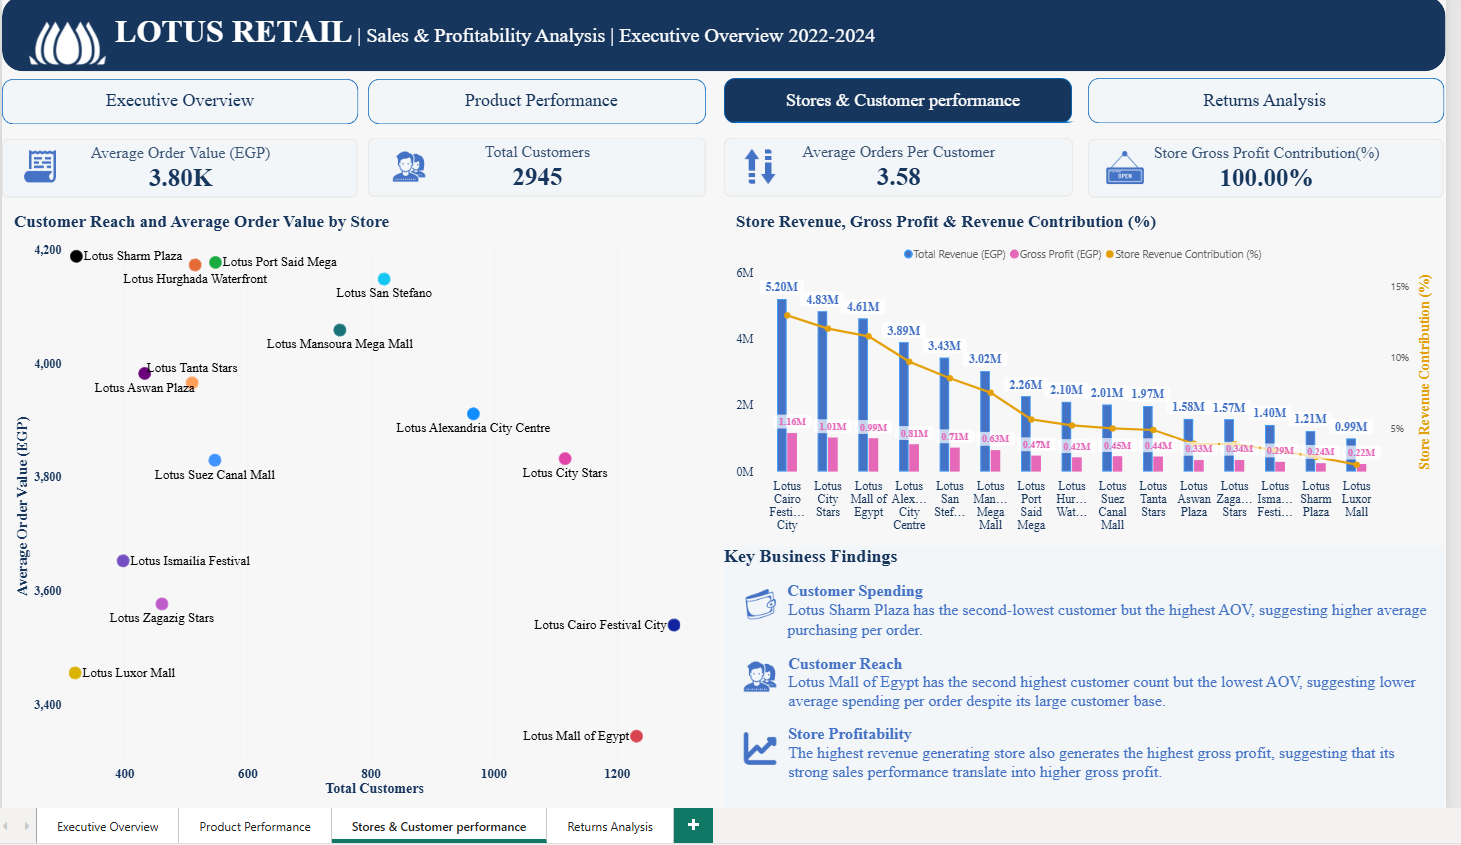

This screenshot's page, from the dashboard's own definition file:
{"tool":"powerbi","page":{"name":"Stores & Customer performance","canvas":[1920,1080],"ordinal":2},"visuals":[{"type":"shape","box":[0,0,1920,100],"z":0},{"type":"image","box":[9.6,0,156.9,126.4],"z":1000},{"type":"textbox","box":[150.8,22.3,1248.3,78.2],"z":2000},{"type":"shape","box":[0,111,474,60.3],"z":3000},{"type":"shape","box":[487.3,110.3,449.6,60],"z":4000},{"type":"shape","box":[960.7,108.9,463,60.3],"z":7000},{"type":"shape","box":[1443.8,108.9,474,60.3],"z":9000},{"type":"cardVisual","fields":{"Data":["Measures (2).AOV"]},"box":[0,189.9,473.4,78],"z":11000},{"type":"image","box":[22.3,201.1,56,52],"z":12000},{"type":"cardVisual","fields":{"Data":["Measures (2).Total Customers"]},"box":[487.3,188.5,449.6,78],"z":13000},{"type":"image","box":[513.9,201.1,56,52],"z":17000},{"type":"cardVisual","fields":{"Data":["Measures (2).Average Orders Per Customer"]},"box":[960.7,188.5,463.6,78.2],"z":18000},{"type":"image","box":[980.2,201.1,56,52],"z":19000},{"type":"cardVisual","fields":{"Data":["Measures (2).Gross Profit (%)"]},"box":[1443.8,189.9,473.4,78.2],"z":20000},{"type":"image","box":[1466.2,202.5,56,52],"z":21000},{"type":"lineClusteredColumnComboChart","title":"Store Revenue, Gross Profit & Revenue Contribution (%)","fields":{"Category":["Stores.store_name"],"Y":["Measures (2).Total Revenue (EGP)","Measures (2).Gross Profit (EGP)"],"Y2":["Measures (2).Store Revenue Contribution (%)"]},"box":[960,272.9,958.6,457.6],"z":22000},{"type":"scatterChart","title":"Customer Reach and Average Order Value by Store","fields":{"Series":["Stores.store_name"],"X":["Measures (2).Total Customers"],"Y":["Measures (2).Average Order Value (EGP)"]},"box":[0,272.9,936.2,807.5],"z":23000},{"type":"textbox","box":[960,731.4,958.4,349.2],"z":24000},{"type":"image","box":[979.6,783.7,56,52],"z":25000},{"type":"image","box":[979.6,878.8,56,52],"z":26000},{"type":"image","box":[979.6,975.4,56,52],"z":27000},{"type":"pageNavigator","box":[0,108.5,1918.5,60.4],"z":27001}]}

Visuals, with their boxes on the page's 1920x1080 design canvas (x1, y1, x2, y2). These are canvas units, not pixel positions in the 1461x845 screenshot, which may show the page scaled, cropped or inside an application window:
shape: (left=0, top=0, right=1920, bottom=100)
image: (left=10, top=0, right=166, bottom=126)
textbox: (left=151, top=22, right=1399, bottom=100)
shape: (left=0, top=111, right=474, bottom=171)
shape: (left=487, top=110, right=937, bottom=170)
shape: (left=961, top=109, right=1424, bottom=169)
shape: (left=1444, top=109, right=1918, bottom=169)
cardVisual - Measures (2).AOV: (left=0, top=190, right=473, bottom=268)
image: (left=22, top=201, right=78, bottom=253)
cardVisual - Measures (2).Total Customers: (left=487, top=188, right=937, bottom=266)
image: (left=514, top=201, right=570, bottom=253)
cardVisual - Measures (2).Average Orders Per Customer: (left=961, top=188, right=1424, bottom=267)
image: (left=980, top=201, right=1036, bottom=253)
cardVisual - Measures (2).Gross Profit (%): (left=1444, top=190, right=1917, bottom=268)
image: (left=1466, top=202, right=1522, bottom=254)
"Store Revenue, Gross Profit & Revenue Contribution (%)" lineClusteredColumnComboChart: (left=960, top=273, right=1919, bottom=730)
"Customer Reach and Average Order Value by Store" scatterChart: (left=0, top=273, right=936, bottom=1080)
textbox: (left=960, top=731, right=1918, bottom=1081)
image: (left=980, top=784, right=1036, bottom=836)
image: (left=980, top=879, right=1036, bottom=931)
image: (left=980, top=975, right=1036, bottom=1027)
pageNavigator: (left=0, top=108, right=1918, bottom=169)
